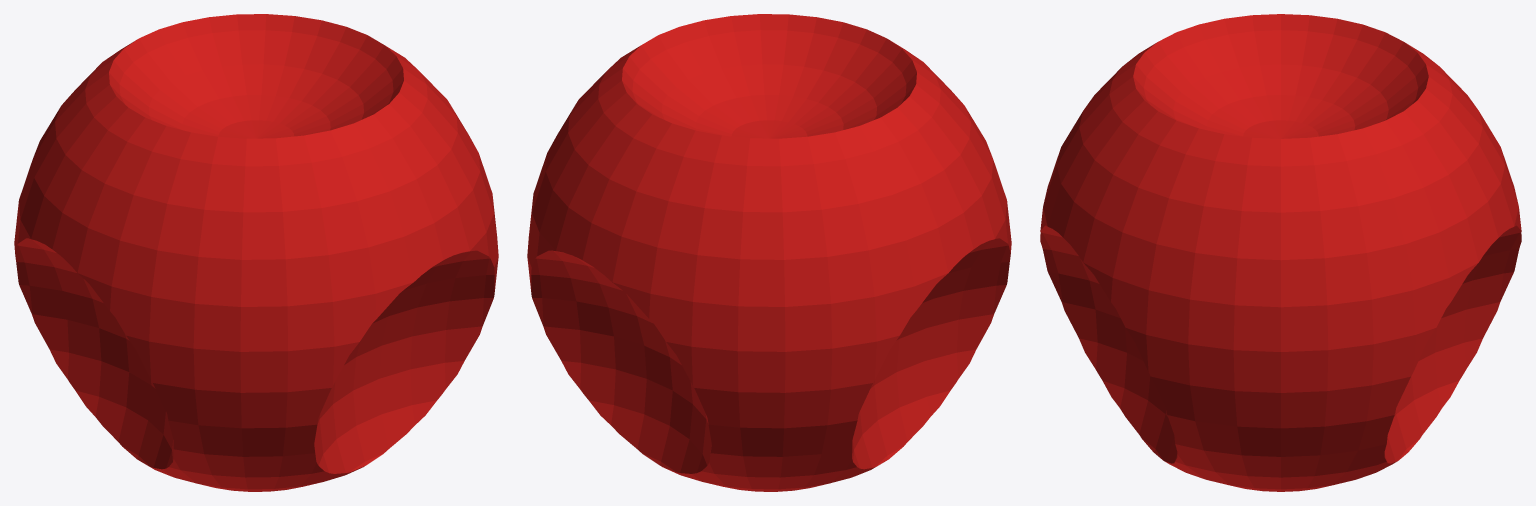
The model's file is quaffle.fbx.
3 renders of one model, left to right at view 1: azimuth 30°, elevation 25°; view 2: azimuth 150°, elevation 25°; view 3: azimuth 270°, elevation 25°, orthographic.
Visible parts, largest first — view 1: Sphere; view 2: Sphere; view 3: Sphere.
Boxes of the visible parts, <box> form: Sphere: <box>14,14,498,491</box>; Sphere: <box>527,14,1011,491</box>; Sphere: <box>1040,14,1521,491</box>.
Bounding box in the file's own units: 197 × 179 × 198.
